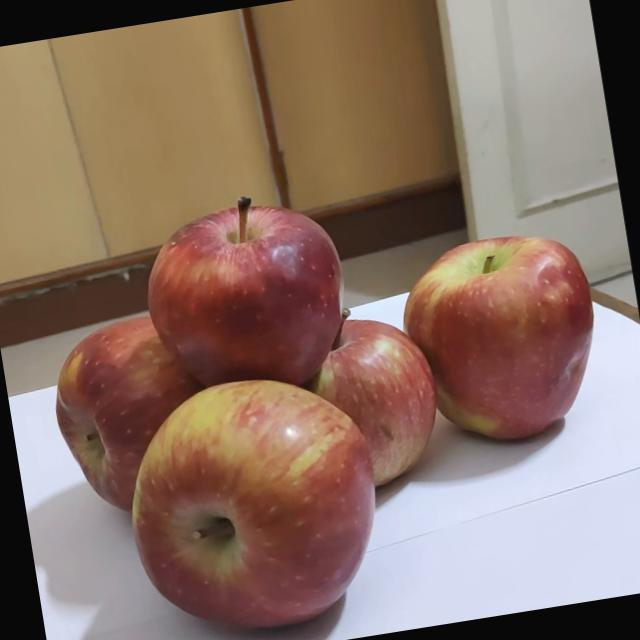apple: (130, 353, 428, 636), (385, 205, 634, 447), (144, 160, 380, 402), (49, 286, 272, 518), (282, 284, 468, 496)
